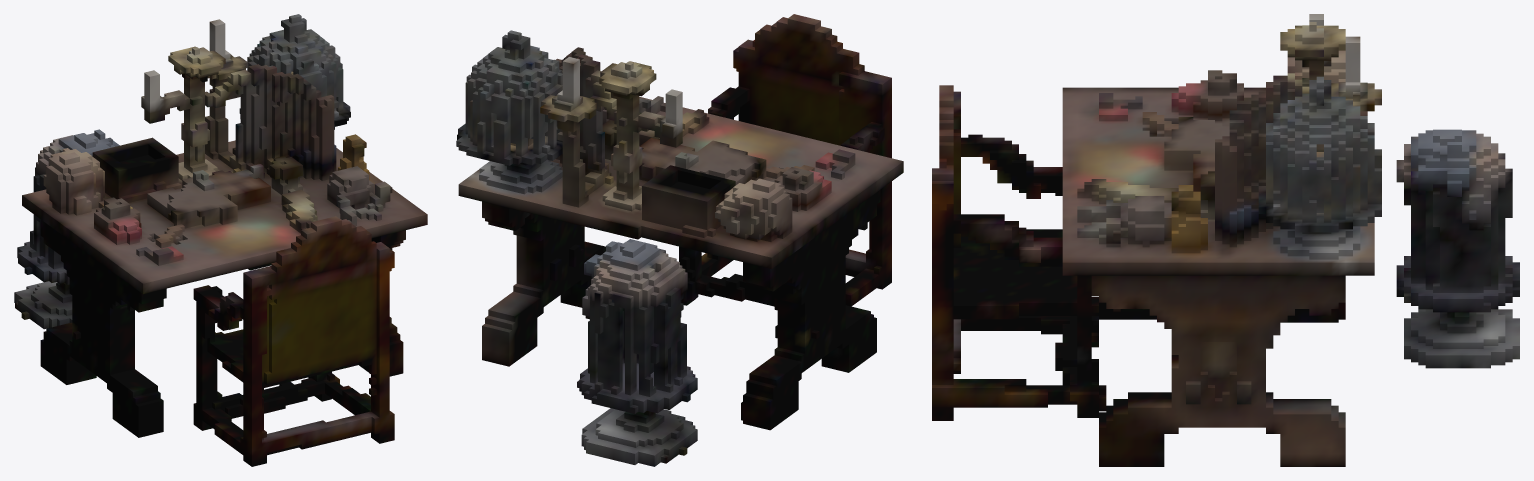
File: officedesk.glb
3 renders of one model, left to right at view 1: azimuth 30°, elevation 25°; view 2: azimuth 150°, elevation 25°; view 3: azimuth 270°, elevation 25°, orthographic. The views are drawn at different scales.
Visible parts, largest first — view 1: world; view 2: world; view 3: world.
Part boxes in pixels (x1=…): world: x1=14, y1=14, x2=427, y2=466; world: x1=456, y1=14, x2=903, y2=466; world: x1=932, y1=14, x2=1519, y2=466.
Bounding box in the file's own units: 0.7509 × 0.7134 × 1.01.
